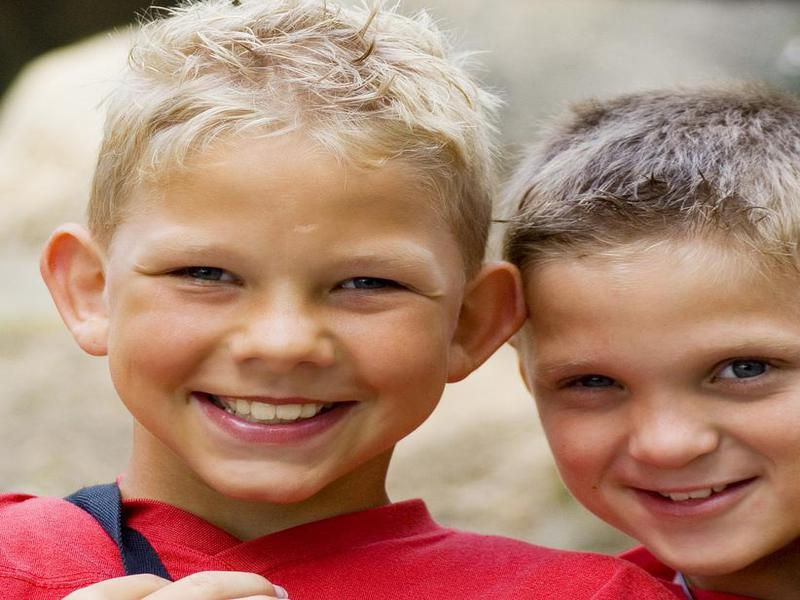person: (1, 1, 618, 600), (507, 60, 800, 595)
